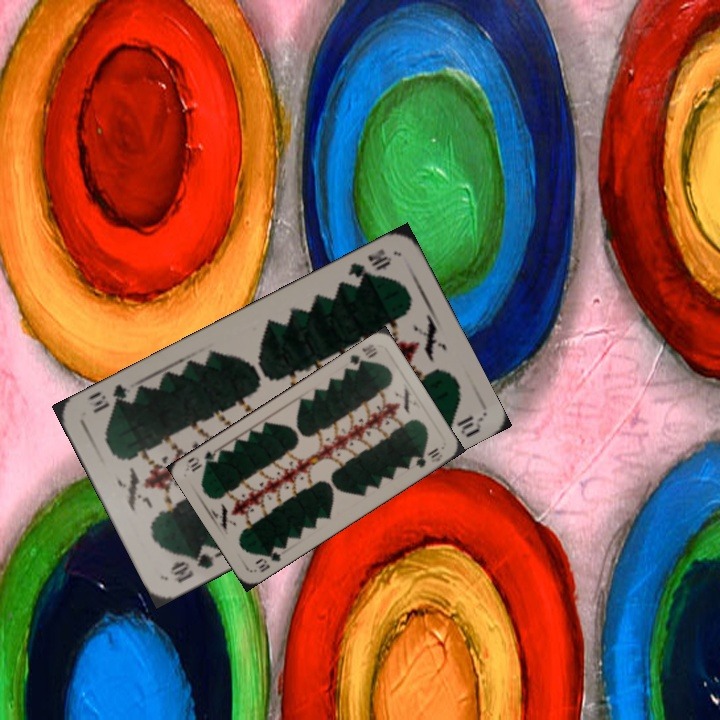G10: (165, 541, 223, 585), (343, 244, 395, 285), (345, 340, 381, 373), (251, 546, 283, 575)
